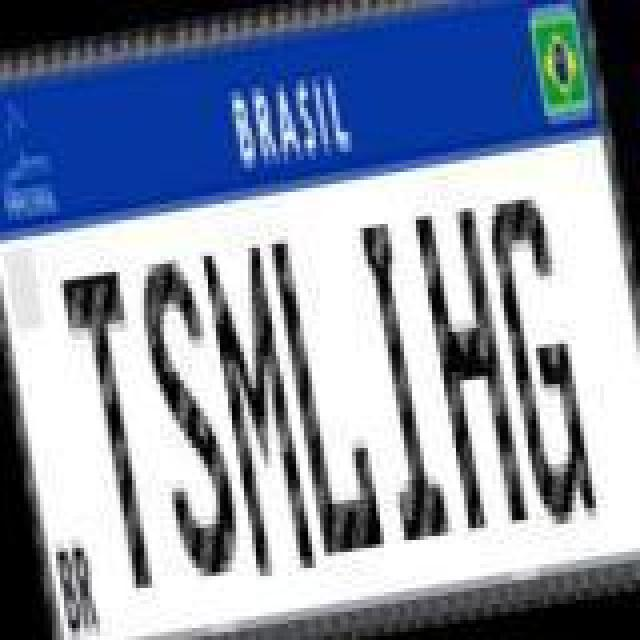G: (480, 186, 600, 534)
H: (412, 202, 532, 534)
I: (346, 212, 454, 548)
L: (268, 226, 388, 558)
M: (196, 236, 316, 580)
S: (128, 254, 248, 586)
T: (58, 266, 174, 598)
